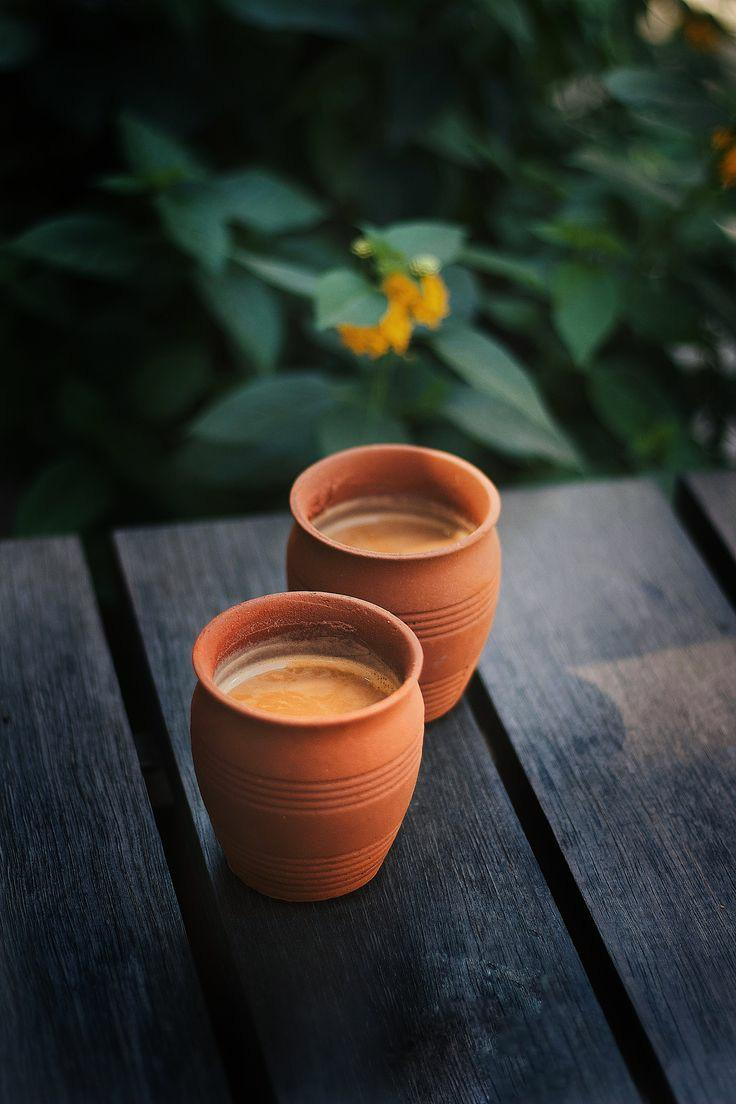Chai: (225, 652, 399, 723), (308, 505, 477, 554)
